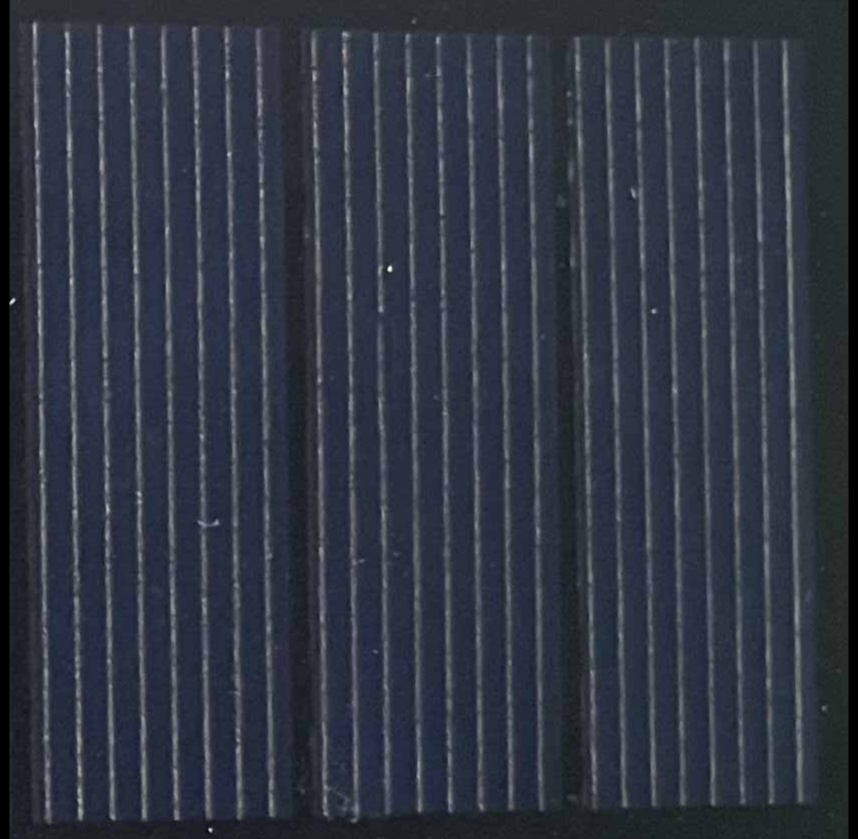Grid: (370, 302, 392, 334)
